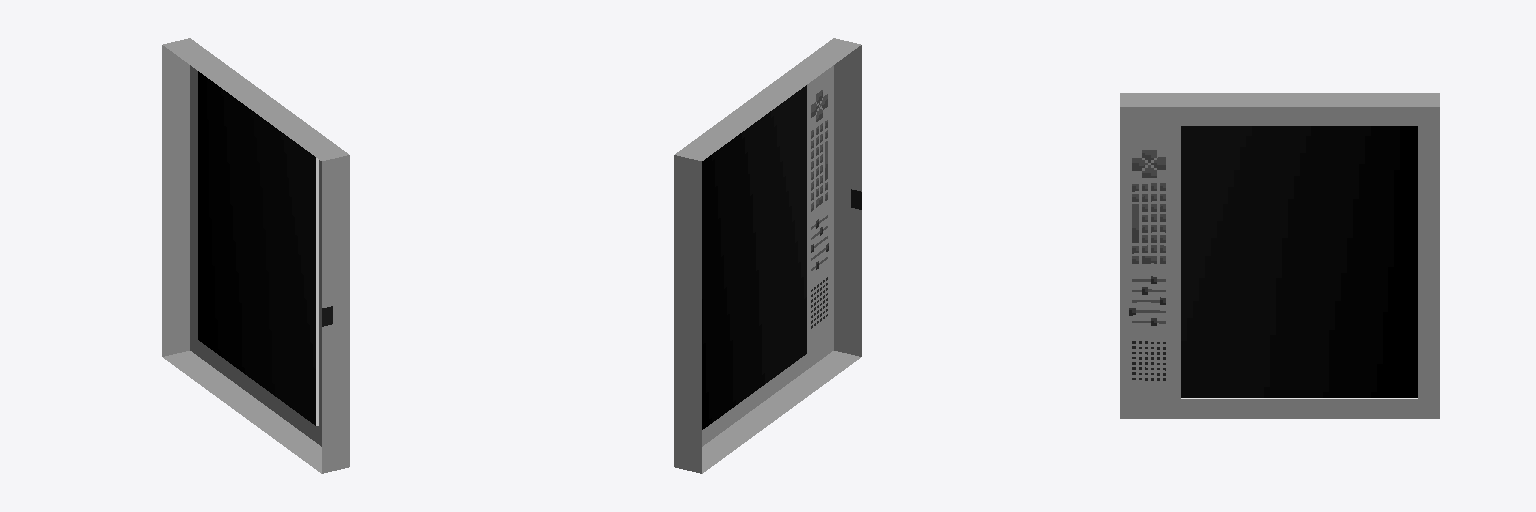
3 views of the same model, side by side, from view 1: azimuth 30°, elevation 25°; view 2: azimuth 150°, elevation 25°; view 3: azimuth 270°, elevation 25° (orthographic).
Visible parts, largest first — view 1: main; view 2: main; view 3: main.
Boxes of the visible parts, box(x1,y1,x2,y2) form: main: box(162, 38, 349, 473); main: box(674, 38, 861, 473); main: box(1120, 93, 1439, 418).
Size of the model in its own units: 0.0745 by 0.8 by 0.7409.
Materials: 2 (2 with a texture image).